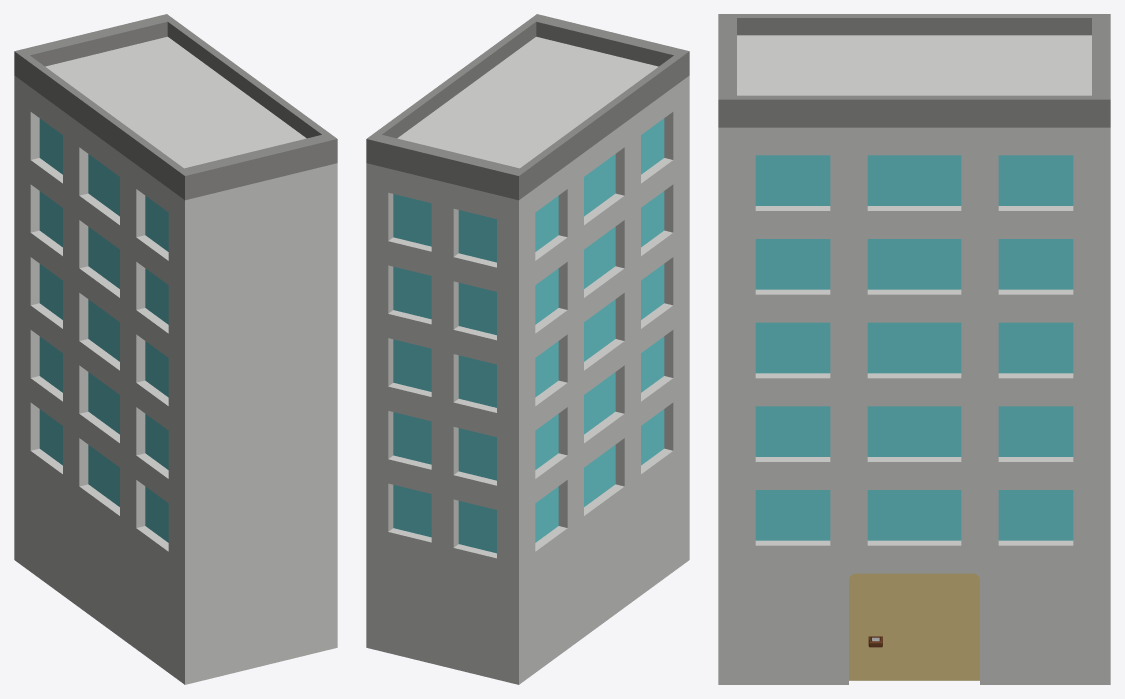
The model's file is Edificio_4.fbx.
3 views of the same model, side by side, from view 1: azimuth 30°, elevation 25°; view 2: azimuth 150°, elevation 25°; view 3: azimuth 270°, elevation 25° (orthographic). The views are drawn at different scales.
Visible parts, largest first — view 1: Edificio_4 (Edificio_1); view 2: Edificio_4 (Edificio_1); view 3: Edificio_4 (Edificio_1).
Boxes of the visible parts, bbox=[...] form: Edificio_4 (Edificio_1): bbox=[14, 14, 337, 684]; Edificio_4 (Edificio_1): bbox=[366, 14, 689, 684]; Edificio_4 (Edificio_1): bbox=[718, 14, 1110, 684].
Size of the model in its own units: 654 by 2040 by 1240.
